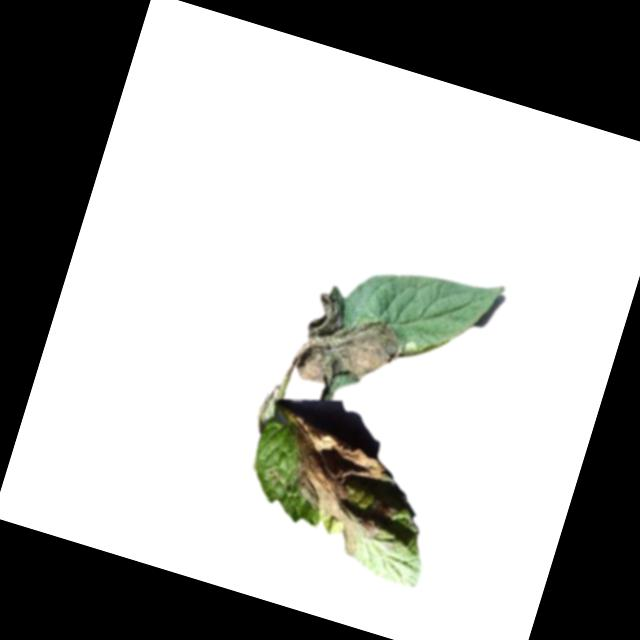Late_blight: (257, 415, 421, 567), (289, 280, 415, 405)
